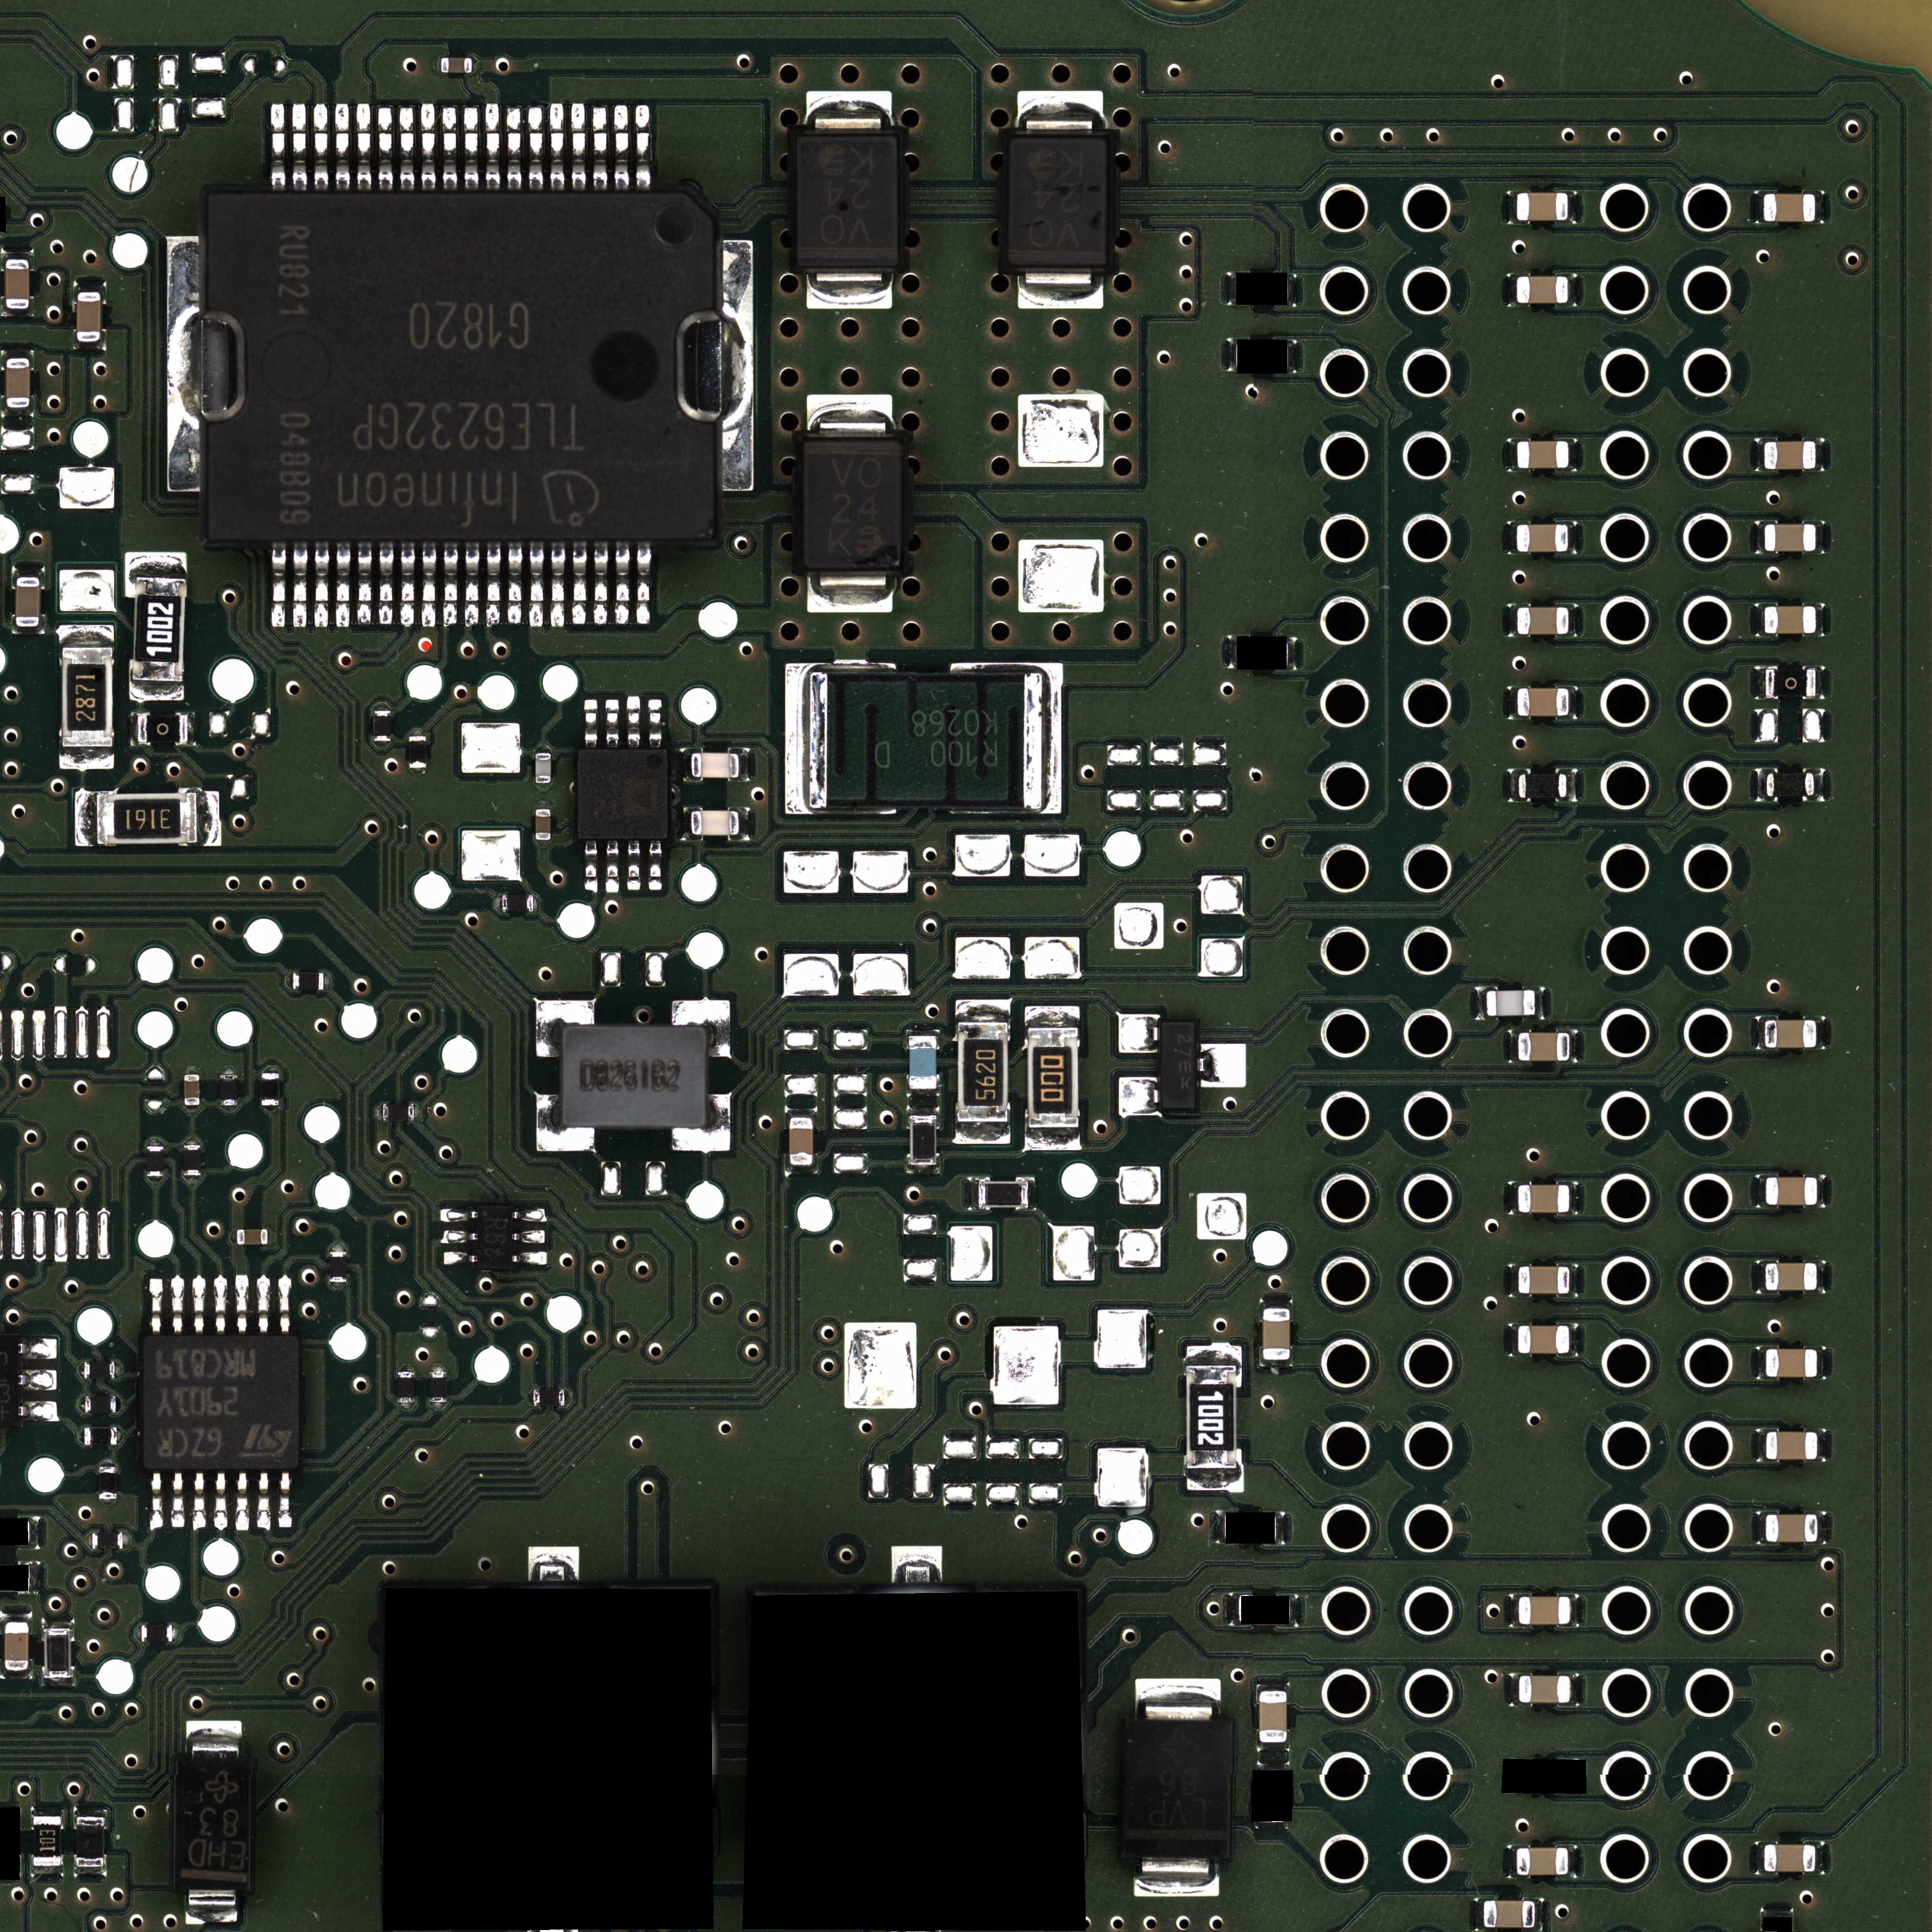Package: (207, 195, 709, 538), (809, 672, 1042, 809), (142, 1334, 301, 1472), (556, 1024, 711, 1127), (1122, 1720, 1233, 1859), (794, 134, 899, 269), (1007, 138, 1109, 269), (801, 439, 902, 570), (173, 1755, 249, 1890), (577, 748, 669, 840), (131, 577, 186, 681), (1185, 1366, 1238, 1468), (1026, 1026, 1079, 1127), (96, 793, 198, 844), (957, 1021, 1008, 1122), (62, 648, 113, 747), (1161, 1021, 1196, 1109), (476, 1207, 513, 1269), (1766, 1348, 1817, 1378), (1764, 193, 1815, 223), (1518, 1596, 1571, 1624), (1516, 1847, 1569, 1875), (1516, 607, 1569, 635), (1764, 1019, 1817, 1047), (1516, 441, 1569, 469), (1516, 1762, 1569, 1790), (1516, 688, 1569, 717), (1518, 1675, 1571, 1704), (1483, 1900, 1536, 1928), (138, 713, 188, 743), (909, 1035, 936, 1090), (1766, 1431, 1817, 1460), (1766, 1514, 1817, 1543), (1764, 441, 1815, 469), (1518, 1325, 1569, 1353), (1764, 524, 1815, 552), (1518, 1185, 1569, 1214), (1766, 1263, 1817, 1292), (1516, 276, 1568, 304), (1516, 193, 1568, 221), (1516, 524, 1568, 552), (1766, 1177, 1817, 1205), (1518, 1033, 1569, 1062), (34, 1815, 62, 1867), (1263, 1307, 1290, 1361), (1766, 669, 1815, 697), (76, 1817, 104, 1867), (1518, 1267, 1569, 1293), (1764, 1845, 1815, 1872), (1764, 607, 1815, 633), (1260, 1691, 1286, 1743), (909, 1115, 936, 1164), (44, 1628, 71, 1677), (692, 752, 740, 778), (1766, 773, 1815, 798), (789, 1116, 814, 1166), (5, 258, 30, 308), (978, 1182, 1028, 1207), (16, 577, 41, 626), (5, 359, 30, 409), (1486, 991, 1536, 1016), (76, 292, 101, 341), (692, 810, 740, 835), (1518, 775, 1566, 798), (5, 1622, 28, 1670), (260, 1072, 280, 1106), (99, 1467, 117, 1499), (409, 736, 426, 768), (292, 973, 324, 991), (382, 1104, 414, 1122), (85, 1428, 117, 1445), (219, 1074, 237, 1106), (329, 1251, 347, 1283), (373, 709, 391, 741), (142, 1624, 173, 1642), (398, 1371, 416, 1403), (85, 1396, 117, 1414), (430, 1371, 448, 1403), (502, 895, 533, 913), (534, 1389, 564, 1407), (184, 1074, 200, 1106), (441, 57, 472, 73), (184, 1145, 200, 1175), (237, 1230, 267, 1246), (147, 1146, 163, 1177), (85, 1362, 115, 1378), (92, 1532, 122, 1548), (536, 809, 550, 840), (536, 752, 550, 782)
Solder: (166, 237, 207, 492), (713, 241, 754, 492), (1017, 90, 1104, 138), (807, 395, 893, 439), (807, 90, 893, 134), (784, 663, 809, 814), (807, 570, 893, 612), (536, 1000, 594, 1058), (672, 1000, 731, 1058), (1136, 1679, 1221, 1718), (536, 1095, 594, 1152), (672, 1095, 731, 1152), (807, 271, 892, 310), (1134, 1859, 1219, 1897), (1017, 271, 1102, 308), (1042, 665, 1062, 814), (1198, 1044, 1246, 1088), (186, 1720, 244, 1755), (892, 1546, 943, 1583), (186, 1890, 237, 1923), (527, 1546, 579, 1580), (1118, 1014, 1159, 1053), (1118, 1077, 1161, 1115), (126, 552, 188, 577), (334, 103, 350, 191), (313, 103, 329, 189), (292, 103, 308, 189), (356, 104, 372, 191), (635, 104, 651, 189), (398, 106, 414, 191), (485, 104, 501, 189), (377, 106, 393, 191), (593, 106, 609, 189), (292, 545, 308, 628), (464, 106, 479, 189), (442, 106, 458, 189), (421, 545, 437, 628), (506, 106, 522, 189), (527, 106, 543, 189), (58, 625, 115, 648), (614, 543, 630, 625), (442, 545, 458, 626), (271, 547, 287, 628), (400, 545, 416, 626), (593, 545, 609, 625), (571, 545, 587, 625), (571, 103, 586, 191), (550, 103, 564, 191), (1185, 1470, 1244, 1491), (271, 103, 285, 189), (421, 104, 435, 191), (1024, 1129, 1081, 1150), (74, 789, 96, 846), (954, 1123, 1010, 1145), (58, 748, 115, 770), (614, 104, 628, 189), (336, 545, 350, 628), (315, 545, 329, 628), (550, 545, 564, 628), (529, 545, 543, 628), (955, 1000, 1010, 1021), (198, 791, 219, 846), (465, 545, 479, 626), (487, 545, 501, 626), (357, 545, 372, 625), (637, 545, 651, 625), (379, 545, 393, 625), (508, 545, 522, 625), (1185, 1345, 1242, 1364), (129, 681, 184, 701), (1024, 1007, 1079, 1026), (19, 1338, 58, 1361), (18, 1369, 58, 1391), (19, 1401, 60, 1422), (235, 1472, 249, 1530), (257, 1472, 271, 1530), (214, 1472, 228, 1530), (257, 1274, 271, 1332), (235, 1274, 249, 1332), (278, 1472, 292, 1529), (149, 1277, 163, 1334), (605, 840, 619, 893), (278, 1274, 290, 1334), (626, 695, 640, 747), (626, 840, 640, 892), (648, 840, 662, 892), (193, 1472, 205, 1530), (172, 1274, 184, 1332), (150, 1472, 163, 1530), (193, 1274, 205, 1332), (214, 1274, 226, 1332), (172, 1472, 184, 1529), (584, 699, 598, 748), (584, 842, 598, 892), (648, 699, 662, 747), (605, 699, 619, 747), (441, 1230, 476, 1244), (513, 1251, 547, 1265), (444, 1251, 476, 1265), (513, 1230, 545, 1244), (441, 1208, 476, 1221), (513, 1208, 547, 1221), (968, 1177, 978, 1212), (1476, 987, 1486, 1021), (740, 807, 750, 840), (30, 1560, 41, 1594), (740, 748, 750, 780), (74, 281, 106, 292), (73, 341, 106, 350), (1509, 1759, 1518, 1792), (74, 1808, 108, 1817), (1757, 768, 1766, 801), (1256, 1743, 1290, 1752), (1507, 191, 1516, 225), (1815, 1842, 1824, 1875), (681, 807, 690, 840), (1509, 1323, 1518, 1357), (1509, 1030, 1518, 1063), (1817, 1511, 1826, 1545), (30, 1516, 39, 1550), (908, 1166, 939, 1175), (32, 1867, 64, 1875), (12, 568, 44, 577), (1258, 1760, 1290, 1769), (12, 626, 44, 635), (2, 249, 34, 258), (74, 1867, 106, 1875), (1755, 439, 1764, 471), (2, 409, 34, 418), (1260, 1299, 1292, 1307), (32, 1806, 64, 1815), (786, 1108, 817, 1116), (1568, 770, 1576, 801), (681, 748, 690, 780), (0, 1670, 32, 1679), (1569, 439, 1578, 471), (1569, 1323, 1578, 1355), (1507, 1845, 1516, 1877), (42, 1619, 74, 1628), (1509, 1182, 1518, 1214), (1507, 522, 1516, 554), (188, 713, 196, 745), (1215, 1511, 1224, 1543), (1757, 1175, 1766, 1207), (1569, 1265, 1578, 1297), (1507, 439, 1516, 471), (1757, 667, 1766, 699), (1569, 1182, 1578, 1214), (1569, 1760, 1578, 1792), (786, 1166, 817, 1175), (1509, 1265, 1518, 1297), (1755, 1842, 1764, 1874), (1815, 770, 1824, 801), (129, 713, 138, 745), (1509, 770, 1518, 801), (1757, 1430, 1766, 1461), (1288, 274, 1297, 306), (1815, 439, 1824, 471), (1815, 522, 1824, 554), (1815, 667, 1824, 699), (1536, 987, 1545, 1019), (1569, 1030, 1578, 1062), (1817, 1175, 1826, 1207), (1474, 1898, 1483, 1930), (1815, 191, 1824, 223), (908, 1106, 938, 1115), (1260, 1361, 1293, 1368), (0, 350, 34, 357), (1030, 1177, 1037, 1210), (1256, 1683, 1290, 1690), (1228, 338, 1235, 372), (1757, 1260, 1764, 1293), (1228, 635, 1235, 669), (1288, 637, 1295, 671), (1569, 603, 1576, 637), (1817, 1346, 1824, 1380), (1511, 1594, 1518, 1628), (1536, 1898, 1543, 1932), (1569, 272, 1576, 306), (42, 1679, 74, 1686), (908, 1090, 939, 1097), (1509, 686, 1516, 718), (0, 1614, 32, 1621), (2, 310, 34, 317), (1509, 605, 1516, 637), (1277, 1513, 1284, 1545), (1256, 1824, 1288, 1831), (908, 1028, 939, 1035), (1757, 1017, 1764, 1049), (1819, 1430, 1826, 1461), (1511, 1674, 1518, 1706), (1571, 1594, 1578, 1626), (1755, 191, 1762, 223), (1757, 522, 1764, 554), (1228, 272, 1235, 304), (1757, 603, 1764, 635), (1292, 1594, 1299, 1626), (1759, 1511, 1766, 1543), (1571, 1674, 1578, 1706), (1509, 274, 1516, 306), (1817, 1261, 1824, 1293), (1288, 341, 1295, 373), (1569, 686, 1576, 718), (1569, 522, 1576, 554), (1817, 605, 1824, 637), (1817, 1017, 1824, 1049), (1759, 1346, 1766, 1378), (1569, 1845, 1576, 1877), (1569, 191, 1576, 223), (1762, 1911, 1794, 1918), (1231, 1594, 1238, 1624), (147, 1138, 163, 1146), (219, 1067, 239, 1074), (182, 1067, 202, 1074), (409, 729, 426, 736), (99, 1499, 117, 1506), (564, 1389, 571, 1407), (409, 768, 426, 775), (533, 895, 540, 913), (134, 1624, 142, 1642), (262, 1065, 280, 1072), (221, 1106, 239, 1113), (184, 1106, 202, 1113), (262, 1106, 280, 1113), (267, 1228, 274, 1246), (230, 1228, 237, 1246), (329, 1244, 347, 1251), (329, 1283, 347, 1290), (398, 1364, 416, 1371), (398, 1403, 416, 1410), (430, 1364, 448, 1371), (85, 1532, 92, 1550), (99, 1460, 117, 1467), (117, 1426, 124, 1444), (78, 1396, 85, 1414), (373, 741, 391, 748), (373, 702, 391, 709), (124, 1532, 131, 1548), (472, 57, 479, 73), (115, 1362, 122, 1378), (324, 973, 331, 989), (184, 1138, 200, 1145), (414, 1104, 421, 1120), (430, 1403, 446, 1410), (173, 1626, 180, 1642), (76, 1428, 83, 1444), (433, 57, 441, 73), (536, 801, 550, 809), (534, 747, 552, 752), (287, 973, 292, 991), (117, 1396, 122, 1414), (184, 1175, 202, 1180), (78, 1361, 83, 1378), (527, 1391, 533, 1407), (377, 1104, 382, 1120), (147, 1177, 163, 1182)
